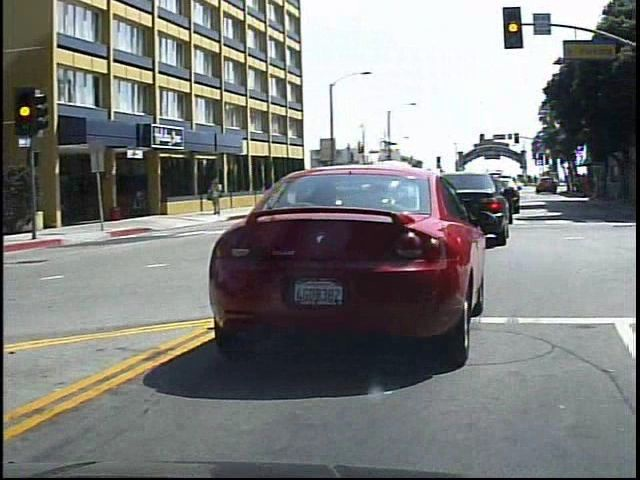person: (210, 174, 228, 218)
